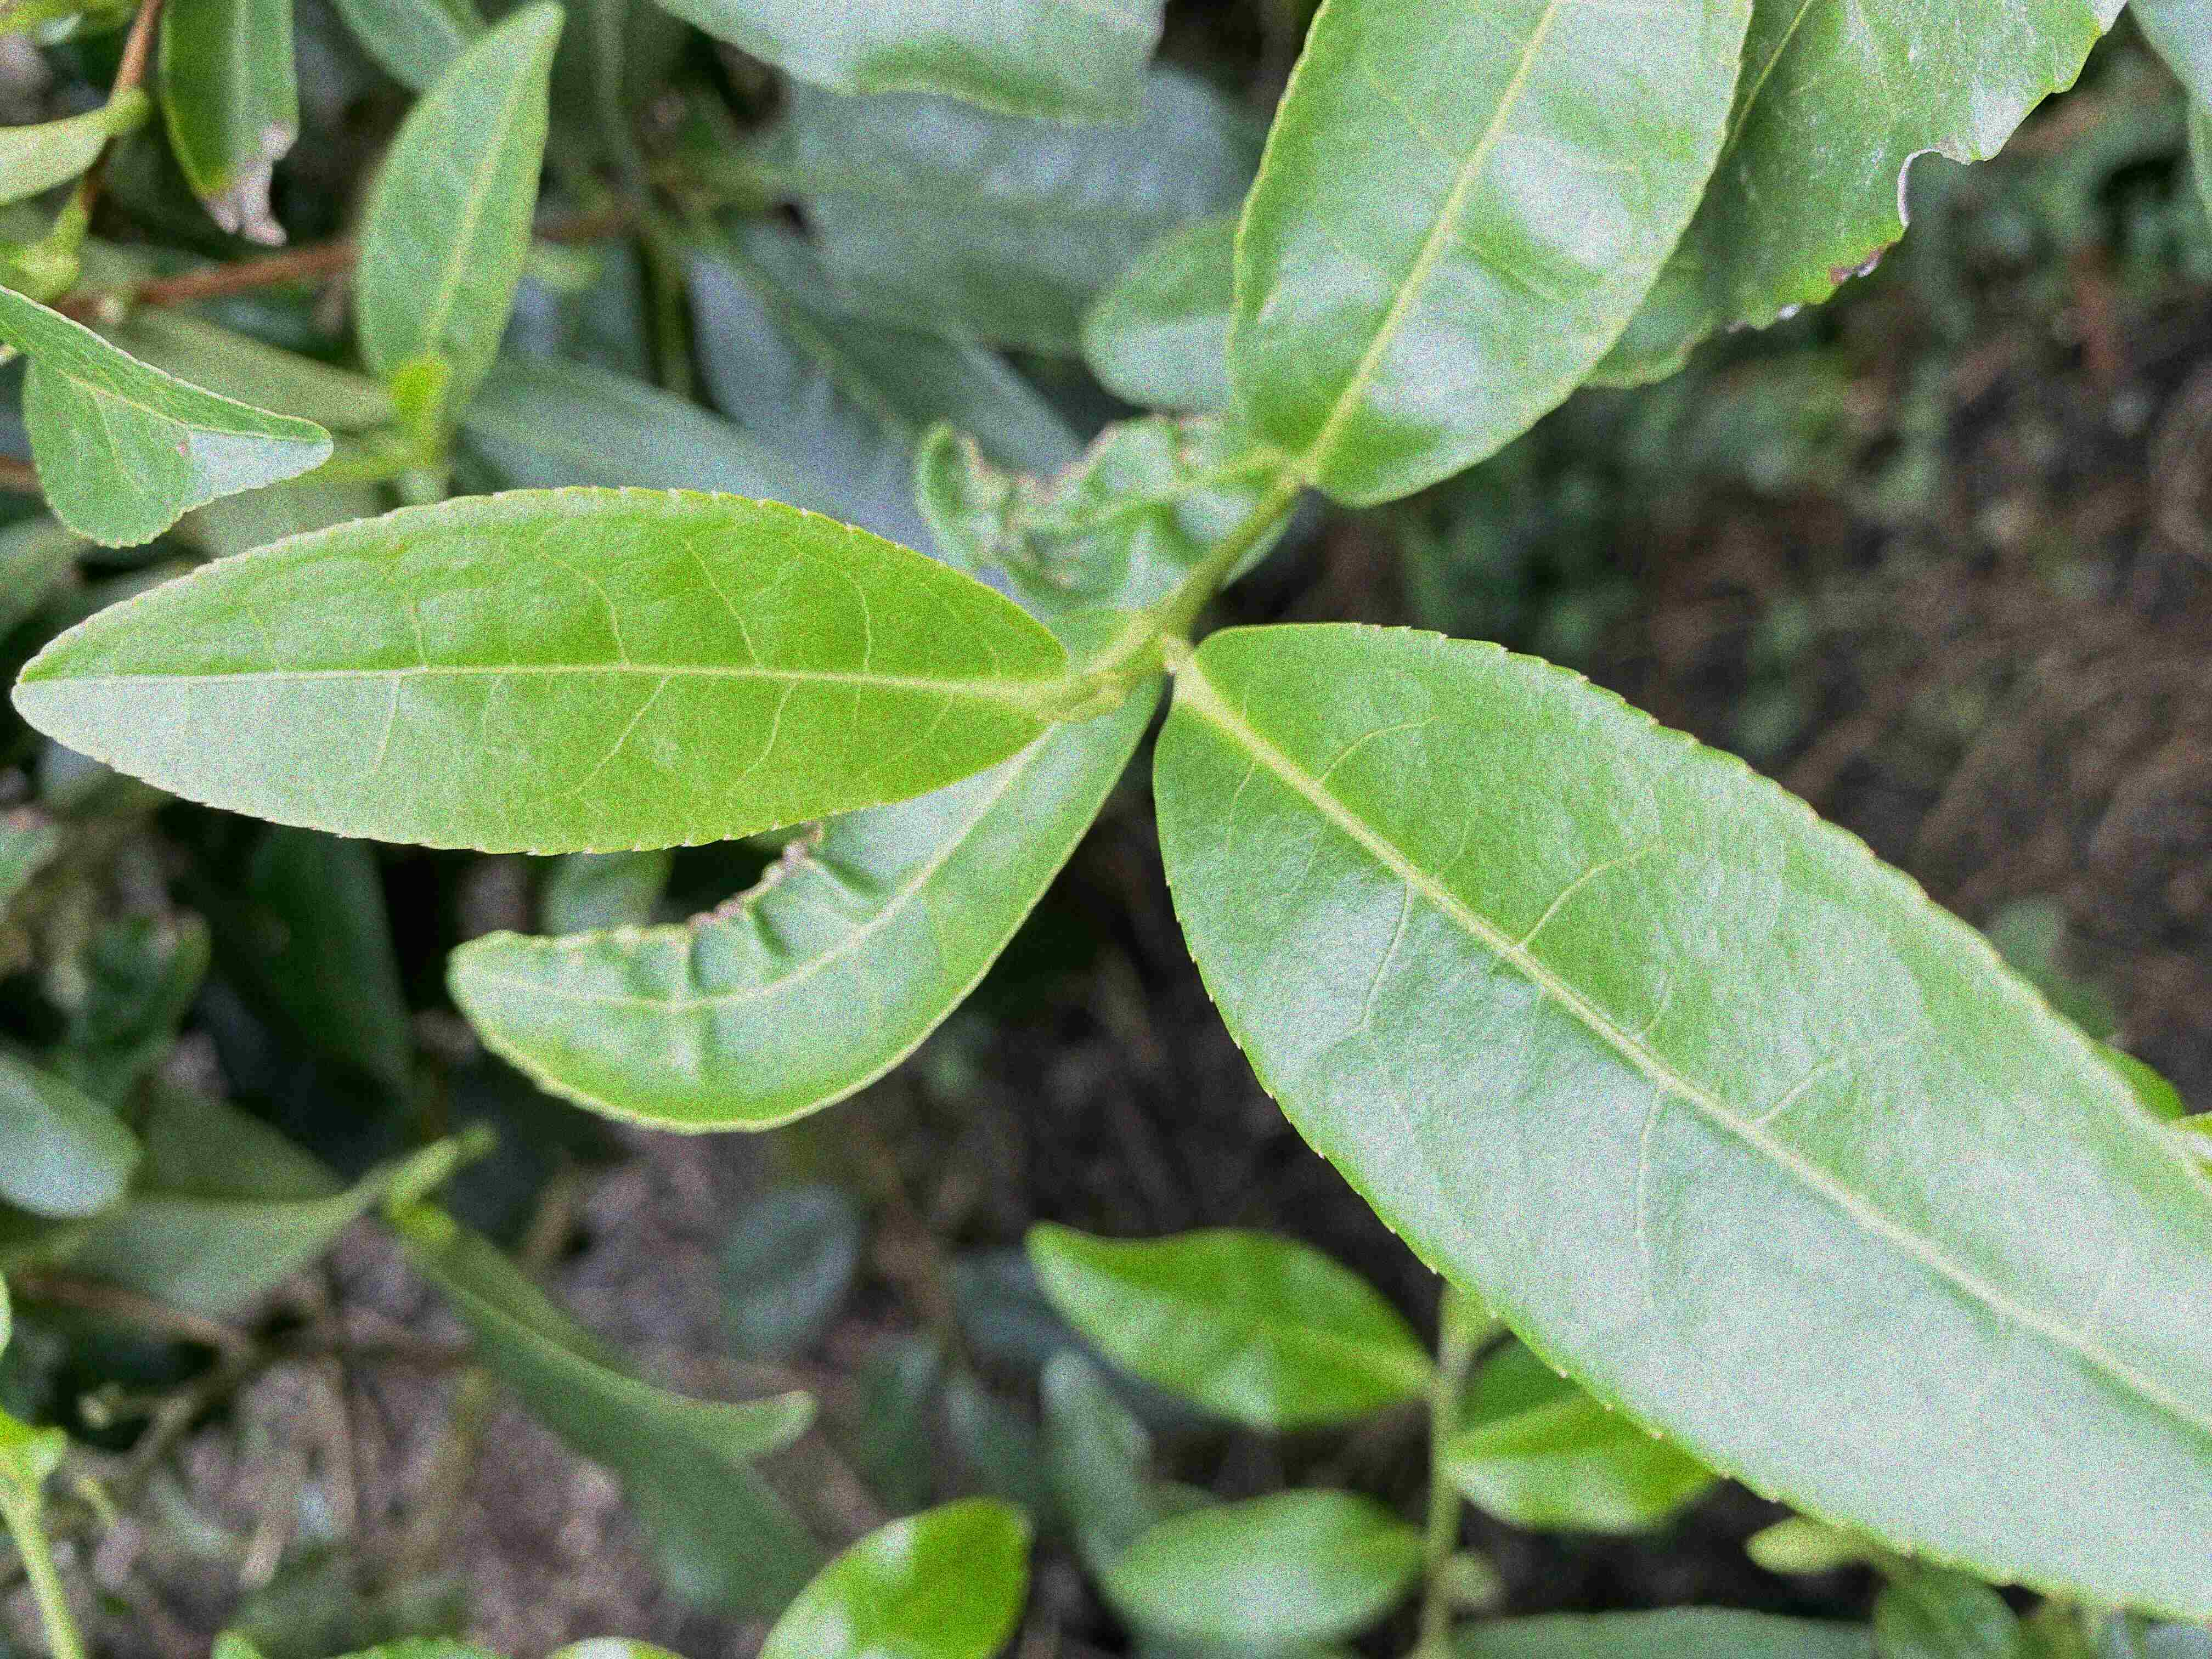chihuo_low: (1581, 3, 2127, 392)
healthy: (1150, 619, 2210, 1622), (10, 488, 1076, 859), (1226, 3, 1752, 511)
tanju_high: (155, 3, 301, 247)
tanju_low: (3, 284, 331, 545)
